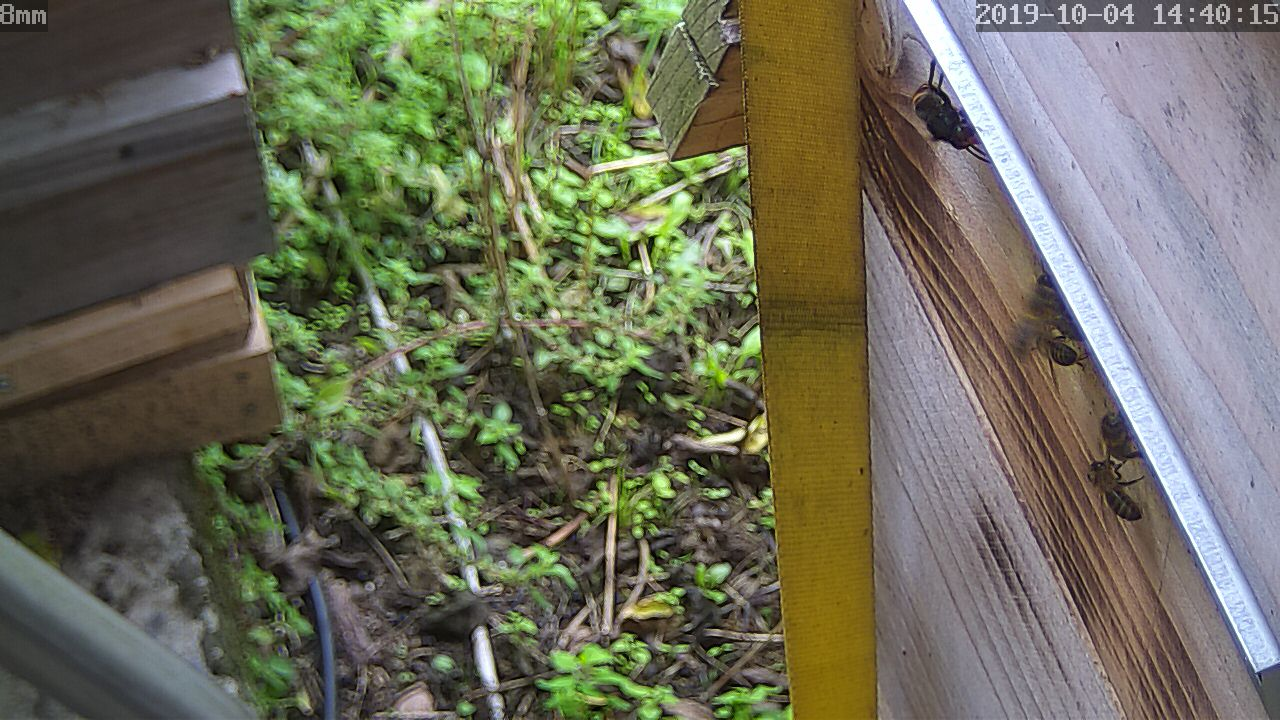bee: (1011, 284, 1084, 370), (1083, 449, 1142, 524), (1081, 403, 1140, 469)
hornet: (900, 69, 982, 161)
